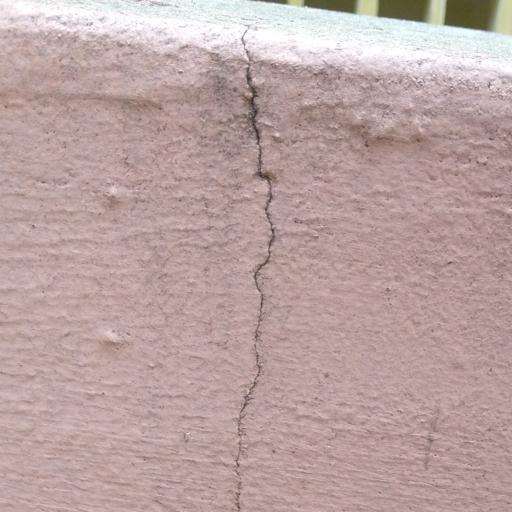minor_crack: (216, 12, 278, 512)
